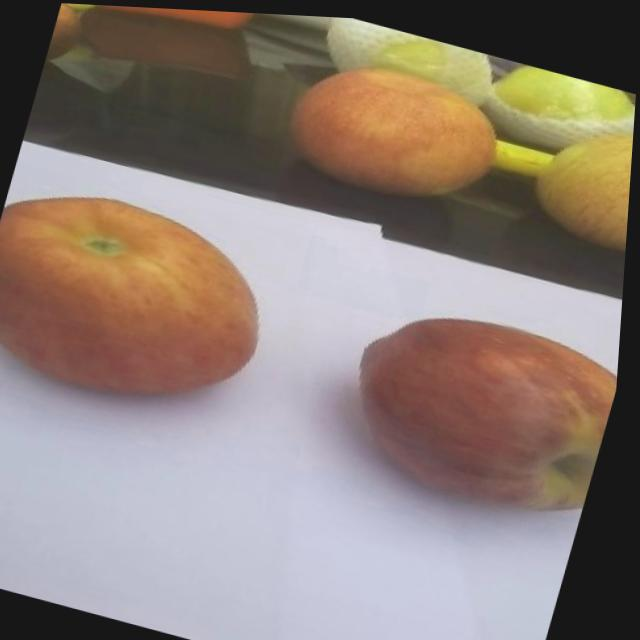Apple: (319, 269, 627, 530), (0, 170, 291, 428), (271, 37, 520, 222), (521, 100, 636, 254)
